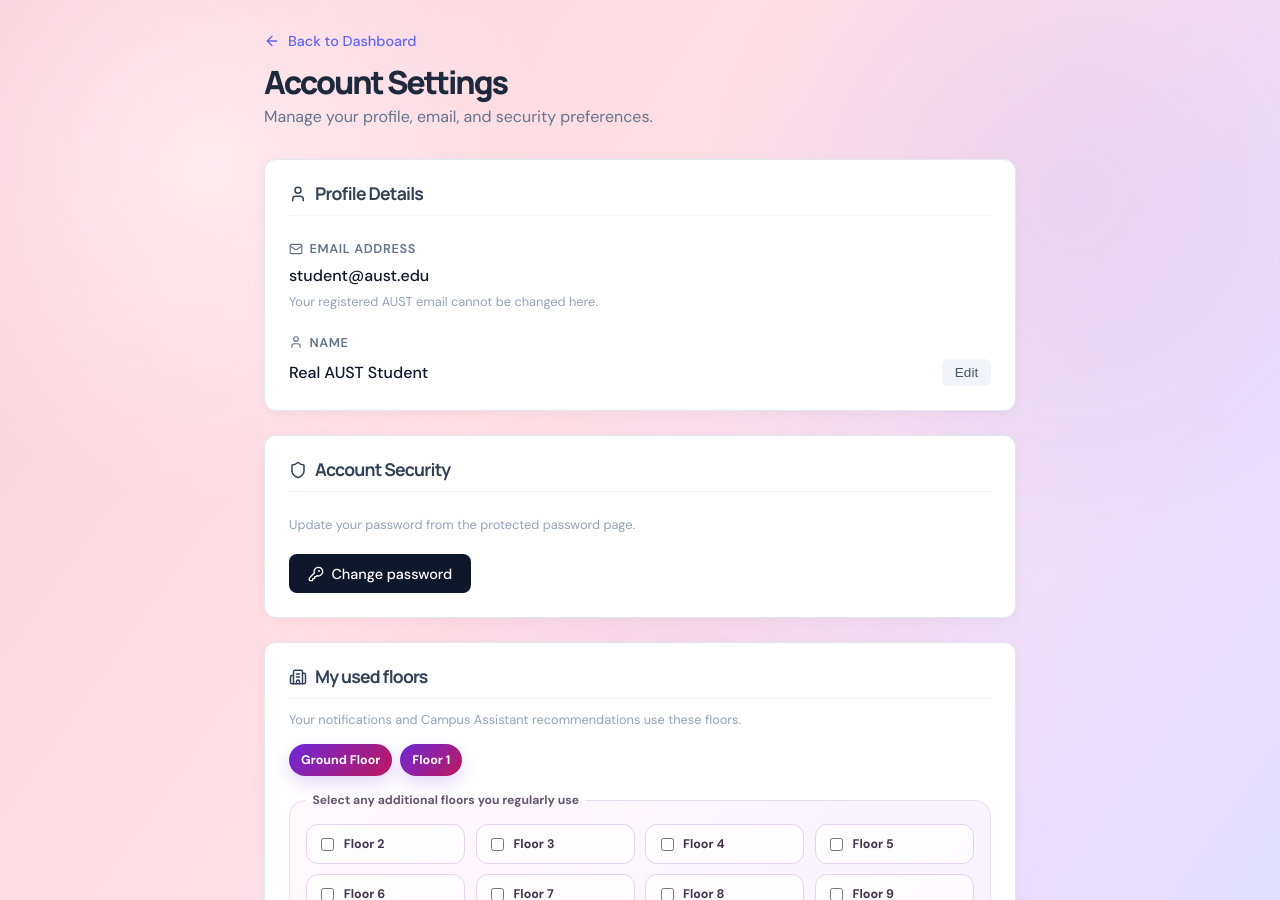
it: Profile integration › shows mandatory floors and persists additional used floors
Expected: the text "Real AUST Student" is shown, [289,362,428,383]
Expected: the text "Ground Floor" is shown, [289,744,392,776]
Click the checkbox labelled "Floor 7".
click(498, 894)  # box [491,888,504,899]
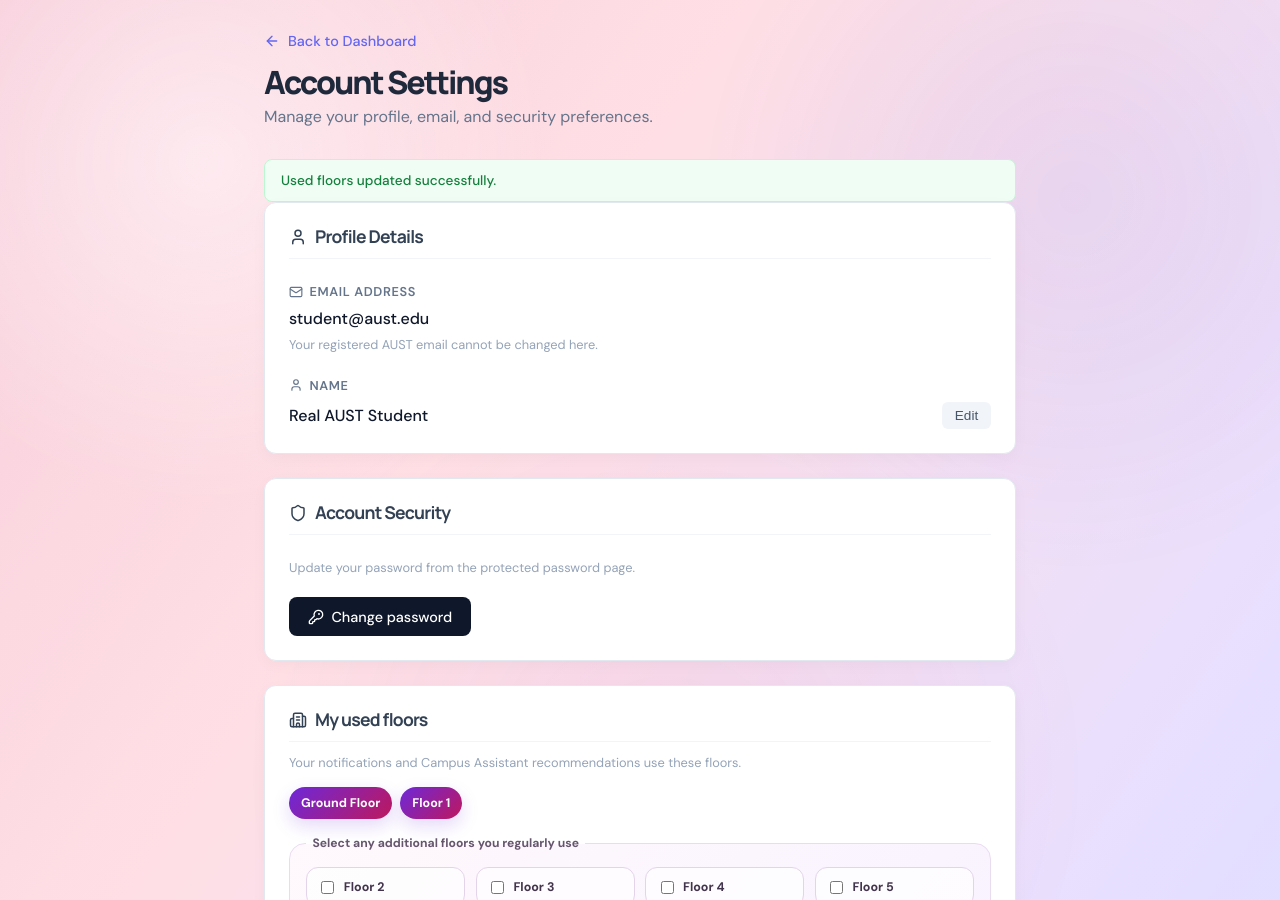
Now the text "Used floors updated successfully." is shown, box [264,159,1016,202]
